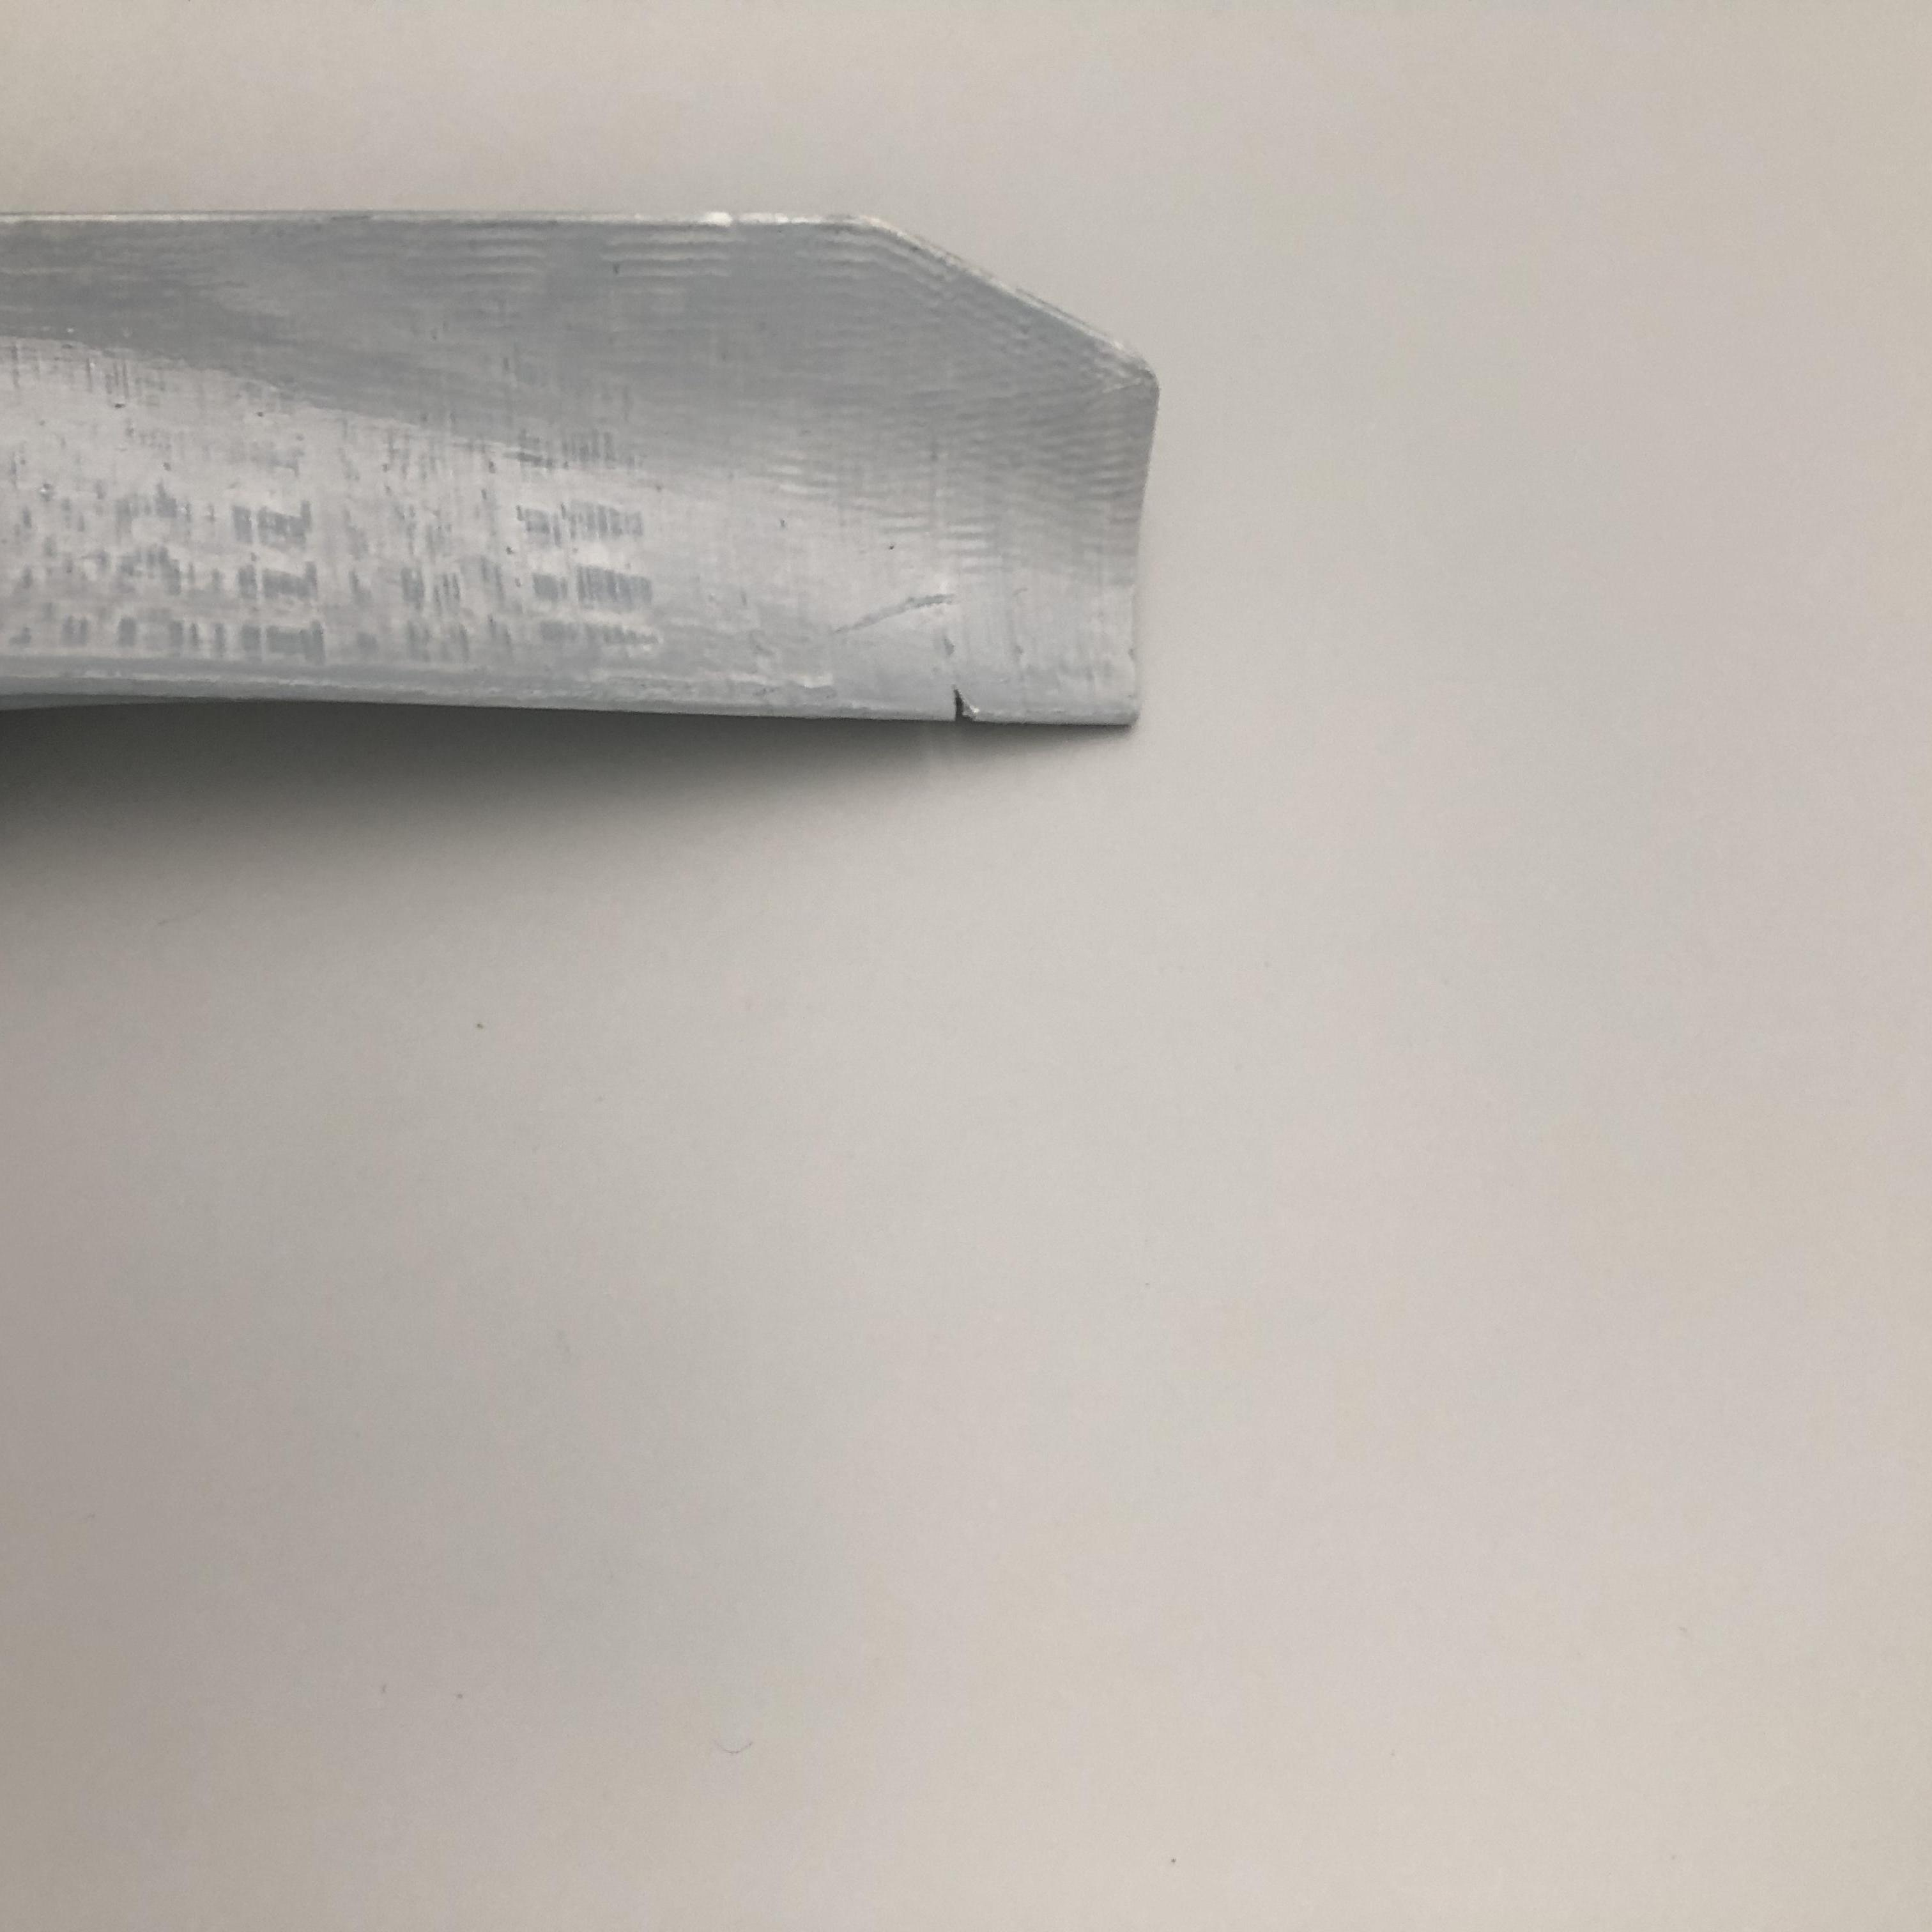groove: (945, 690, 1008, 732)
